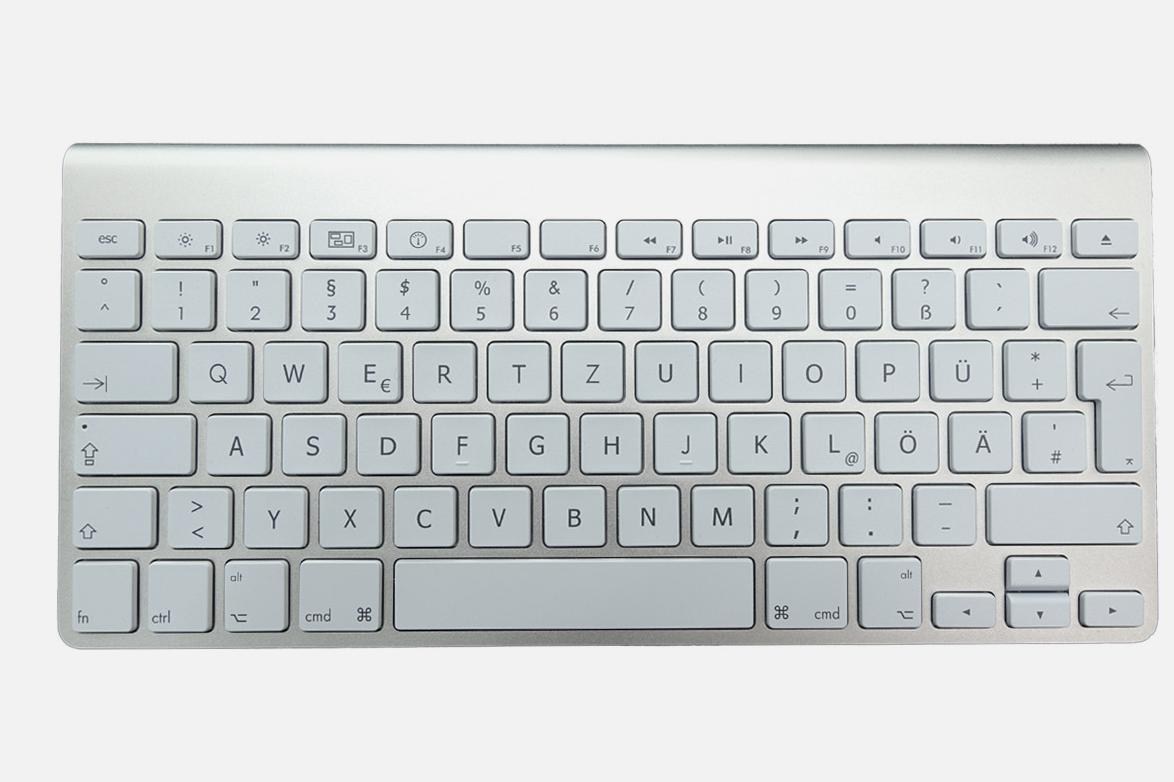0: (816, 265, 883, 329)
1: (147, 267, 214, 329)
2: (222, 266, 290, 330)
3: (298, 266, 365, 330)
4: (373, 265, 439, 329)
5: (447, 266, 515, 330)
6: (521, 266, 588, 329)
7: (596, 265, 661, 329)
8: (668, 265, 735, 329)
9: (742, 265, 809, 329)
a: (202, 411, 270, 475)
accent: (964, 265, 1029, 327)
ae: (947, 409, 1013, 472)
alt-left: (219, 556, 288, 633)
altgr-right: (856, 553, 924, 630)
b: (539, 482, 607, 547)
c: (390, 483, 458, 547)
caret: (72, 265, 138, 329)
comma: (762, 481, 829, 544)
d: (353, 410, 421, 475)
del: (1037, 263, 1140, 327)
e: (335, 337, 403, 403)
enter: (1075, 334, 1142, 471)
f: (429, 410, 495, 474)
g: (502, 410, 570, 474)
h: (577, 409, 643, 474)
hash: (1020, 408, 1086, 471)
i: (706, 336, 772, 400)
j: (652, 408, 717, 474)
k: (725, 407, 791, 473)
keyboard: (54, 141, 1159, 649)
l: (799, 409, 866, 474)
less: (163, 483, 233, 547)
m: (687, 481, 755, 546)
minus: (910, 481, 977, 544)
n: (614, 482, 682, 547)
o: (779, 336, 847, 402)
oe: (873, 409, 940, 473)
p: (853, 336, 920, 400)
plus: (1002, 336, 1066, 400)
point: (836, 481, 903, 544)
q: (181, 337, 254, 403)
r: (410, 338, 477, 402)
s: (279, 411, 346, 475)
shift-left: (68, 483, 154, 548)
shift-lock: (70, 410, 194, 474)
shift-right: (983, 477, 1142, 545)
space: (391, 553, 754, 630)
ss: (889, 265, 956, 328)
strg-left: (142, 555, 214, 633)
t: (485, 337, 550, 401)
tab: (70, 337, 176, 402)
u: (631, 337, 699, 402)
ue: (927, 336, 994, 401)
v: (464, 482, 533, 547)
w: (260, 337, 327, 402)
x: (316, 483, 384, 547)
y: (240, 484, 308, 548)
z: (558, 337, 625, 402)
